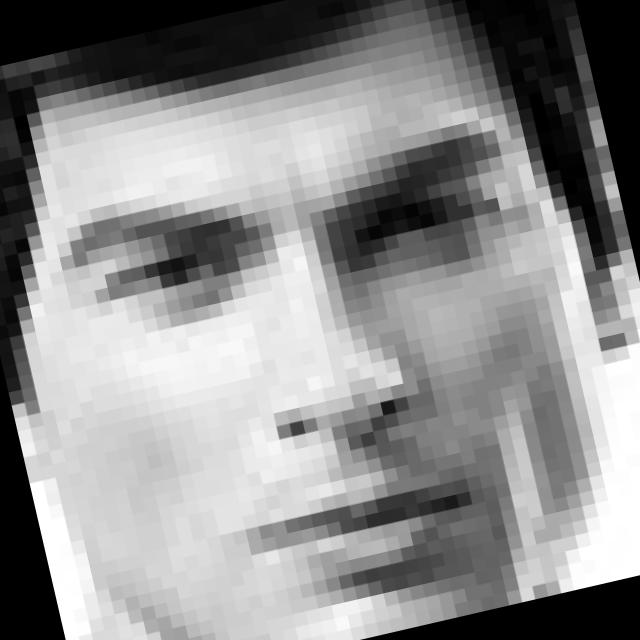neutral: (42, 108, 607, 640)
